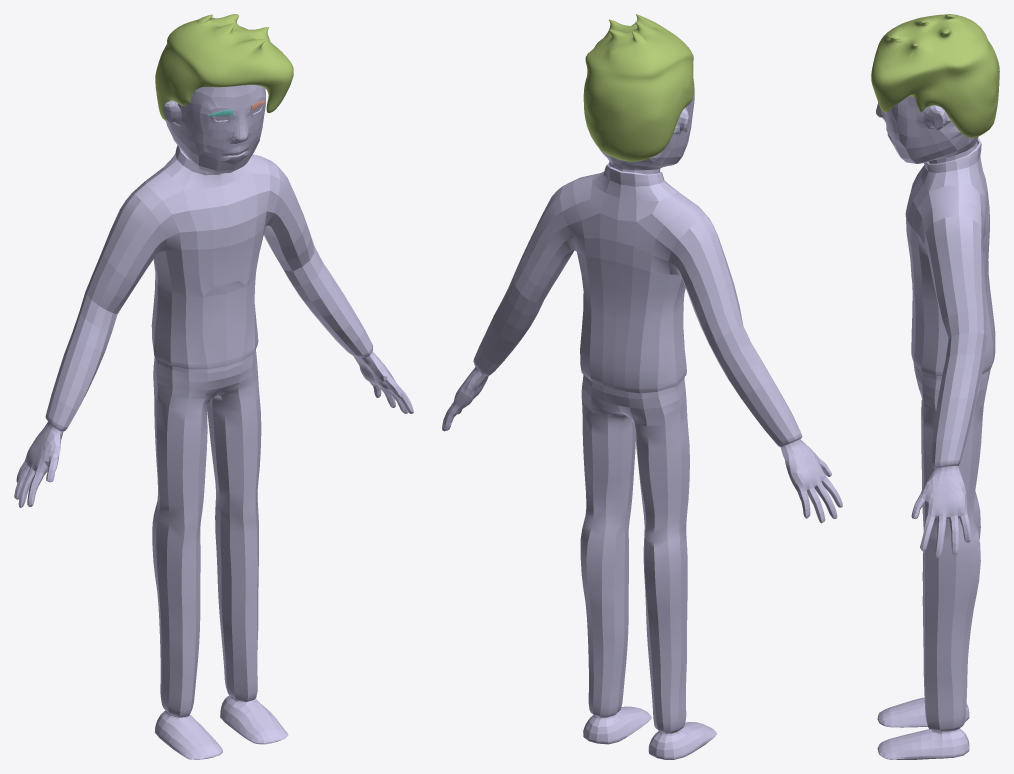
3 views of the same model, side by side, from view 1: azimuth 30°, elevation 25°; view 2: azimuth 150°, elevation 25°; view 3: azimuth 270°, elevation 25° (orthographic).
Parts seen in each view (by area): view 1: split_parent_2, Richard_CabelloRichard_Tex_0; view 2: split_parent_2, Richard_CabelloRichard_Tex_0; view 3: split_parent_2, Richard_CabelloRichard_Tex_0.
Part boxes in pixels (x1=…): split_parent_2: x1=14, y1=85, x2=413, y2=759; Richard_CabelloRichard_Tex_0: x1=155, y1=14, x2=293, y2=120; split_parent_2: x1=442, y1=81, x2=842, y2=759; Richard_CabelloRichard_Tex_0: x1=583, y1=14, x2=693, y2=161; split_parent_2: x1=876, y1=95, x2=995, y2=759; Richard_CabelloRichard_Tex_0: x1=871, y1=14, x2=999, y2=138.
Size of the model in its own units: 0.5722 by 1 by 0.1614.
